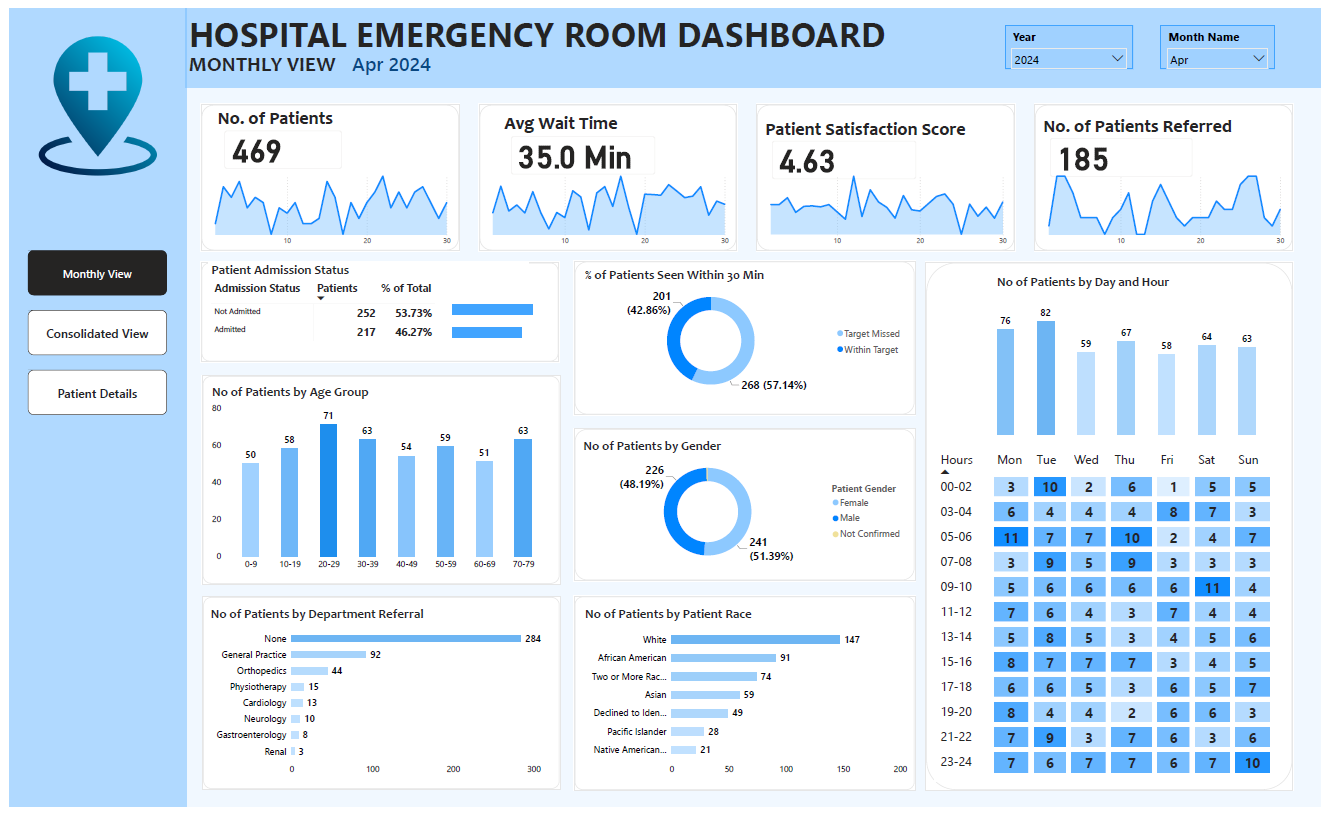

What the dashboard file says about the page in this screenshot:
{"tool":"powerbi","page":{"name":"Monthly View","canvas":[2300,1400],"ordinal":0},"visuals":[{"type":"shape","box":[989.7,736.1,600,269.1],"z":0},{"type":"shape","box":[334.8,167.4,455,258.4],"z":1000},{"type":"shape","box":[0,0,310,1401.1],"z":2000},{"type":"shape","box":[309.3,0,1990.7,138.3],"z":3000},{"type":"textbox","box":[309.3,0,1255.5,105.5],"z":4000},{"type":"textbox","box":[309.3,69.1,291.1,98.3],"z":5000},{"type":"cardVisual","fields":{"Data":["Hospital ER_Data.No of Patients"]},"box":[360.3,196.5,240.2,101.9],"z":6000},{"type":"slicer","fields":{"Values":["Date Table.Year"]},"box":[1746.8,29.1,225.6,76.4],"z":7000},{"type":"slicer","fields":{"Values":["Date Table.Month Name"]},"box":[2019.8,29.1,200.2,76.4],"z":8000},{"type":"textbox","box":[360.3,167.4,287.5,54.6],"z":9000},{"type":"areaChart","fields":{"Category":["Date Table.Date.Variation.Date Hierarchy.Day"],"Y":["Hospital ER_Data.No of Patients"]},"box":[345.7,280.2,436.7,145.6],"z":10000},{"type":"cardVisual","fields":{"Rows":["Date Table.Month & Year"]},"box":[600.5,54.6,171,131],"z":11000},{"type":"shape","box":[822.5,167.4,454.9,258.4],"z":12000},{"type":"cardVisual","fields":{"Data":["Hospital ER_Data.Avg Wait Time"]},"box":[862.5,207.4,287.5,101.9],"z":13000},{"type":"textbox","box":[862.8,177.4,287.5,54.6],"z":14000},{"type":"shape","box":[1310.2,167.4,454.9,258.4],"z":15000},{"type":"cardVisual","fields":{"Data":["Hospital ER_Data.Satisfaction Score"]},"box":[1321,214.7,287.5,101.9],"z":16000},{"type":"textbox","box":[1321,185.6,425.8,54.6],"z":17000},{"type":"shape","box":[1797.8,167.4,454.9,258.4],"z":18000},{"type":"cardVisual","fields":{"Data":["Hospital ER_Data.No of Patient Referred"]},"box":[1809.3,210.3,284.5,102.1],"z":19000},{"type":"textbox","box":[1809.3,182.5,436.1,55.7],"z":20000},{"type":"areaChart","fields":{"Category":["Date Table.Date.Variation.Date Hierarchy.Day"],"Y":["Avg(Hospital ER_Data.Patient Waittime)"]},"box":[833.4,280.2,436.7,145.6],"z":21000},{"type":"areaChart","fields":{"Category":["Date Table.Date.Variation.Date Hierarchy.Day"],"Y":["Hospital ER_Data.Satisfaction Score"]},"box":[1321,280.2,436.7,145.6],"z":22000},{"type":"areaChart","fields":{"Category":["Date Table.Date.Variation.Date Hierarchy.Day"],"Y":["Hospital ER_Data.No of Patient Referred"]},"box":[1808.7,280.2,436.7,145.6],"z":23000},{"type":"pivotTable","fields":{"Rows":["Hospital ER_Data.Admission Status"],"Values":["Hospital ER_Data.No of Patients"]},"box":[349.1,464.1,599.6,143.8],"z":24000},{"type":"shape","box":[335.4,444.1,630,177],"z":25000},{"type":"pivotTable","title":"Patient Admission Status","fields":{"Values":["Hospital ER_Data.No of Patients1","Hospital ER_Data.No of Patients"],"Rows":["Hospital ER_Data.Admission Status"]},"box":[348.6,442.9,562.9,162.9],"z":26000},{"type":"barChart","fields":{"Category":["Hospital ER_Data.Admission Status"],"Y":["Hospital ER_Data.No of Patients"]},"box":[773.2,485.6,176.3,120.6],"z":27000},{"type":"shape","box":[336.7,643.3,630,368],"z":28000},{"type":"clusteredColumnChart","fields":{"Category":["Hospital ER_Data.Age Group"],"Y":["Hospital ER_Data.No of Patients"]},"box":[350,657.1,600,338.1],"z":29000},{"type":"shape","box":[338.1,1031,628.6,340.5],"z":30000},{"type":"clusteredBarChart","fields":{"Category":["Hospital ER_Data.Department Referral"],"Y":["Hospital ER_Data.No of Patients"]},"box":[347.6,1047.6,602.4,307.1],"z":31000},{"type":"shape","box":[989.7,442.3,600,272.2],"z":32000},{"type":"donutChart","title":"% of Patients Seen Within 30 Min","fields":{"Category":["Hospital ER_Data.Waittime Status"],"Y":["Hospital ER_Data.No of Patients"]},"box":[1005.2,451.6,572.2,235.1],"z":33000},{"type":"shape","box":[989.7,1029.9,600,343.3],"z":34000},{"type":"donutChart","title":"No of Patients by Gender","fields":{"Y":["Hospital ER_Data.No of Patients"],"Category":["Hospital ER_Data.Patient Gender"]},"box":[1002.1,751.6,575.3,235.1],"z":35000},{"type":"clusteredBarChart","fields":{"Y":["Hospital ER_Data.No of Patients"],"Category":["Hospital ER_Data.Patient Race"]},"box":[1005.2,1048.5,575.3,306.2],"z":36000},{"type":"shape","box":[1606.7,444.4,646.7,928.9],"z":37000},{"type":"pivotTable","fields":{"Rows":["Hospital ER_Data.Waittime Interval"],"Columns":["Date Table.Day Name"],"Values":["Hospital ER_Data.No of Patients"]},"box":[1624.4,771.1,608.9,584.4],"z":38000},{"type":"columnChart","title":"No of Patients by Day and Hour","fields":{"Y":["Hospital ER_Data.No of Patients"],"Category":["Date Table.Day Name"]},"box":[1727.8,463.9,466.7,288.9],"z":39000},{"type":"image","box":[32.8,29.1,243.8,283.9],"z":40000},{"type":"pageNavigator","box":[32.4,423.5,244.1,291.2],"z":41000}]}

Visuals, with their boxes in screenshot pixels (x1, y1, x2, y2), scaled from the page's 2300x1400 canvas onto the 1333x819 screenshot:
shape: box=[574, 431, 921, 588]
shape: box=[194, 98, 458, 249]
shape: box=[0, 0, 180, 818]
shape: box=[179, 0, 1332, 81]
textbox: box=[179, 0, 907, 62]
textbox: box=[179, 40, 348, 98]
cardVisual - Hospital ER_Data.No of Patients: box=[209, 115, 348, 175]
slicer - Date Table.Year: box=[1012, 17, 1143, 62]
slicer - Date Table.Month Name: box=[1171, 17, 1287, 62]
textbox: box=[209, 98, 375, 130]
areaChart - Date Table.Date.Variation.Date Hierarchy.Day x Hospital ER_Data.No of Patients: box=[200, 164, 453, 249]
cardVisual - Date Table.Month & Year: box=[348, 32, 447, 109]
shape: box=[477, 98, 740, 249]
cardVisual - Hospital ER_Data.Avg Wait Time: box=[500, 121, 667, 181]
textbox: box=[500, 104, 667, 136]
shape: box=[759, 98, 1023, 249]
cardVisual - Hospital ER_Data.Satisfaction Score: box=[766, 126, 932, 185]
textbox: box=[766, 109, 1012, 141]
shape: box=[1042, 98, 1306, 249]
cardVisual - Hospital ER_Data.No of Patient Referred: box=[1049, 123, 1213, 183]
textbox: box=[1049, 107, 1301, 139]
areaChart - Date Table.Date.Variation.Date Hierarchy.Day x Avg(Hospital ER_Data.Patient Waittime): box=[483, 164, 736, 249]
areaChart - Date Table.Date.Variation.Date Hierarchy.Day x Hospital ER_Data.Satisfaction Score: box=[766, 164, 1019, 249]
areaChart - Date Table.Date.Variation.Date Hierarchy.Day x Hospital ER_Data.No of Patient Referred: box=[1048, 164, 1301, 249]
pivotTable - Hospital ER_Data.Admission Status x Hospital ER_Data.No of Patients: box=[202, 271, 550, 356]
shape: box=[194, 260, 560, 363]
"Patient Admission Status" pivotTable: box=[202, 259, 528, 354]
barChart - Hospital ER_Data.Admission Status x Hospital ER_Data.No of Patients: box=[448, 284, 550, 355]
shape: box=[195, 376, 560, 592]
clusteredColumnChart - Hospital ER_Data.Age Group x Hospital ER_Data.No of Patients: box=[203, 384, 551, 582]
shape: box=[196, 603, 560, 802]
clusteredBarChart - Hospital ER_Data.Department Referral x Hospital ER_Data.No of Patients: box=[201, 613, 551, 792]
shape: box=[574, 259, 921, 418]
"% of Patients Seen Within 30 Min" donutChart: box=[583, 264, 914, 402]
shape: box=[574, 602, 921, 803]
"No of Patients by Gender" donutChart: box=[581, 440, 914, 577]
clusteredBarChart - Hospital ER_Data.No of Patients x Hospital ER_Data.Patient Race: box=[583, 613, 916, 792]
shape: box=[931, 260, 1306, 803]
pivotTable - Hospital ER_Data.Waittime Interval x Date Table.Day Name: box=[941, 451, 1294, 793]
"No of Patients by Day and Hour" columnChart: box=[1001, 271, 1272, 440]
image: box=[19, 17, 160, 183]
pageNavigator: box=[19, 248, 160, 418]
